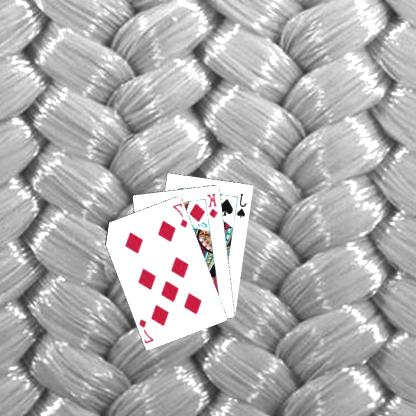7D: (172, 200, 191, 229), (138, 315, 157, 344)
JS: (236, 191, 250, 219)
KD: (206, 190, 221, 220)
